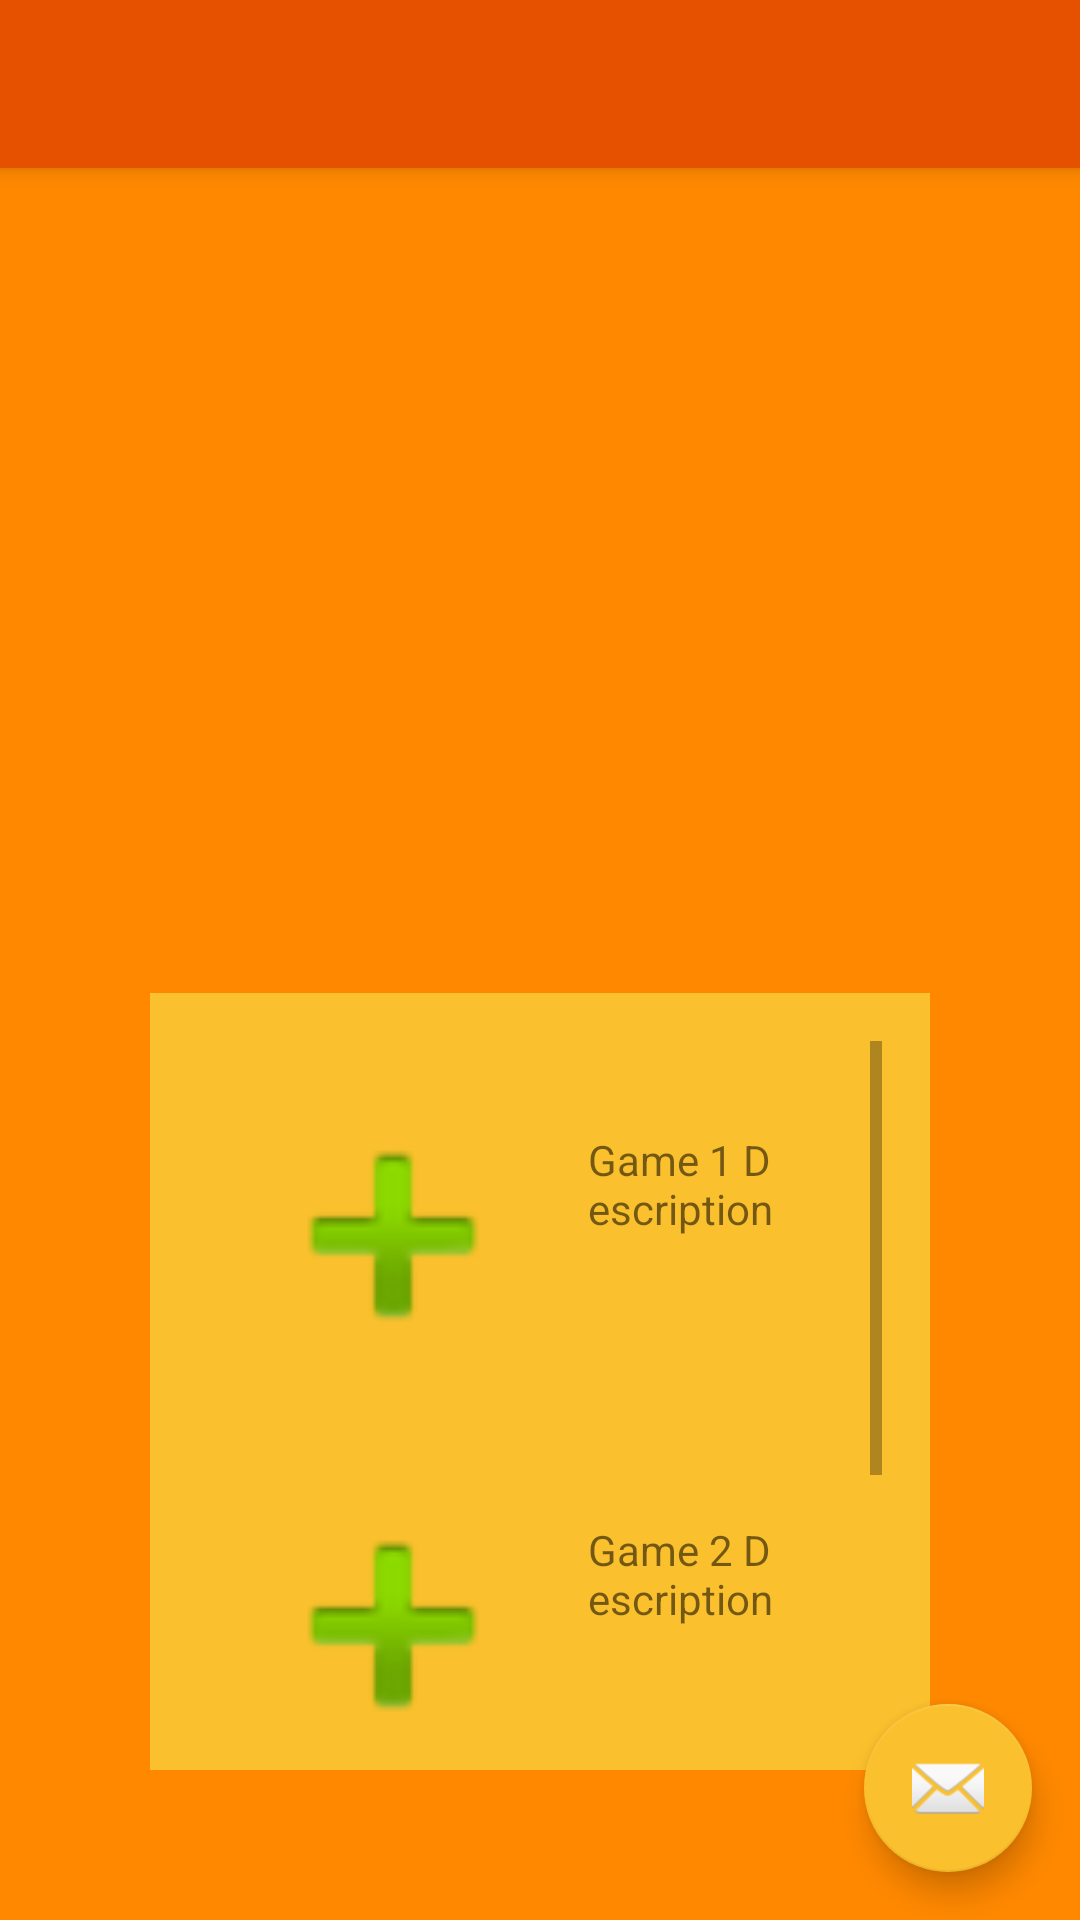

Icon bounding boxes for this 1080px x 1920px phone screenshot, format (x1, y1, x2, y2):
add: (309, 1151, 477, 1320), (309, 1541, 477, 1710)
email: (864, 1704, 1032, 1872)
